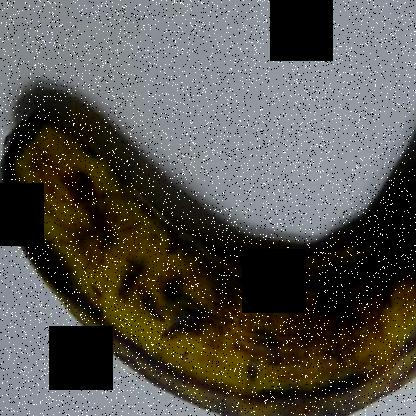overripe: (12, 117, 415, 415)
